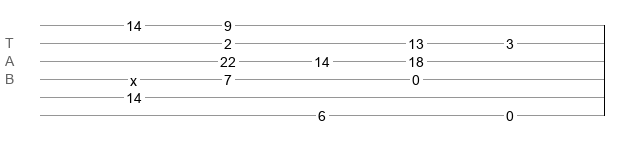0: (412, 72, 420, 82), (506, 108, 514, 118)
13: (408, 36, 424, 46)
14: (126, 90, 142, 100), (126, 18, 142, 28), (314, 54, 330, 64)
18: (408, 54, 424, 64)
2: (224, 36, 232, 46)
22: (220, 54, 236, 64)
3: (506, 36, 514, 46)
6: (318, 108, 326, 118)
7: (224, 72, 232, 82)
9: (224, 18, 232, 28)
x: (130, 73, 137, 81)
